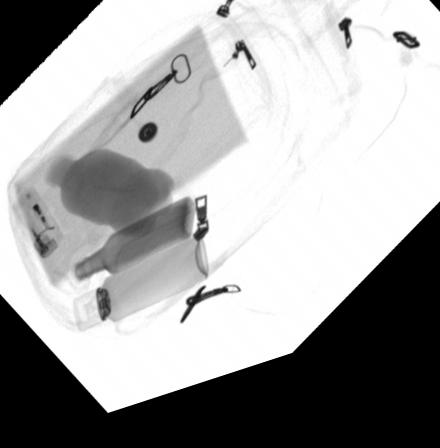Lighter: (9, 186, 66, 261)
Sprayer: (72, 245, 208, 336)
